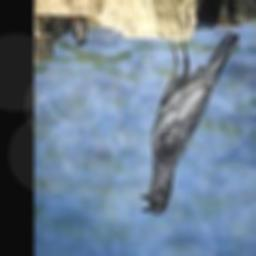Crow: (141, 31, 239, 215)
